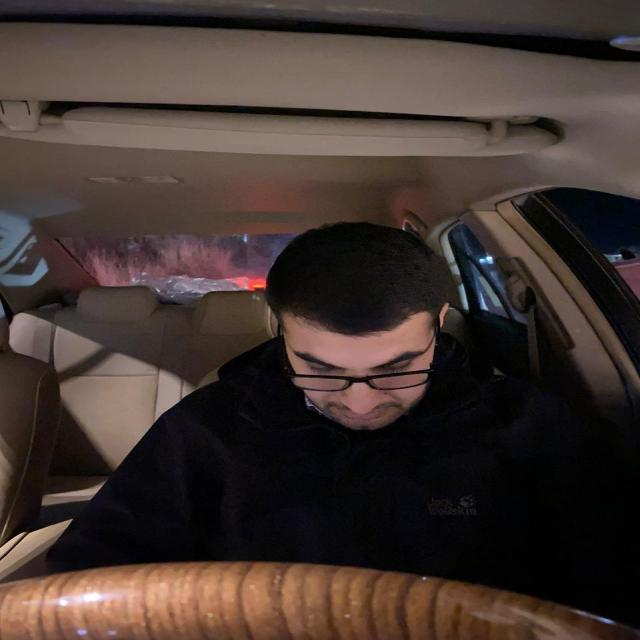drowsy: (265, 218, 456, 437)
